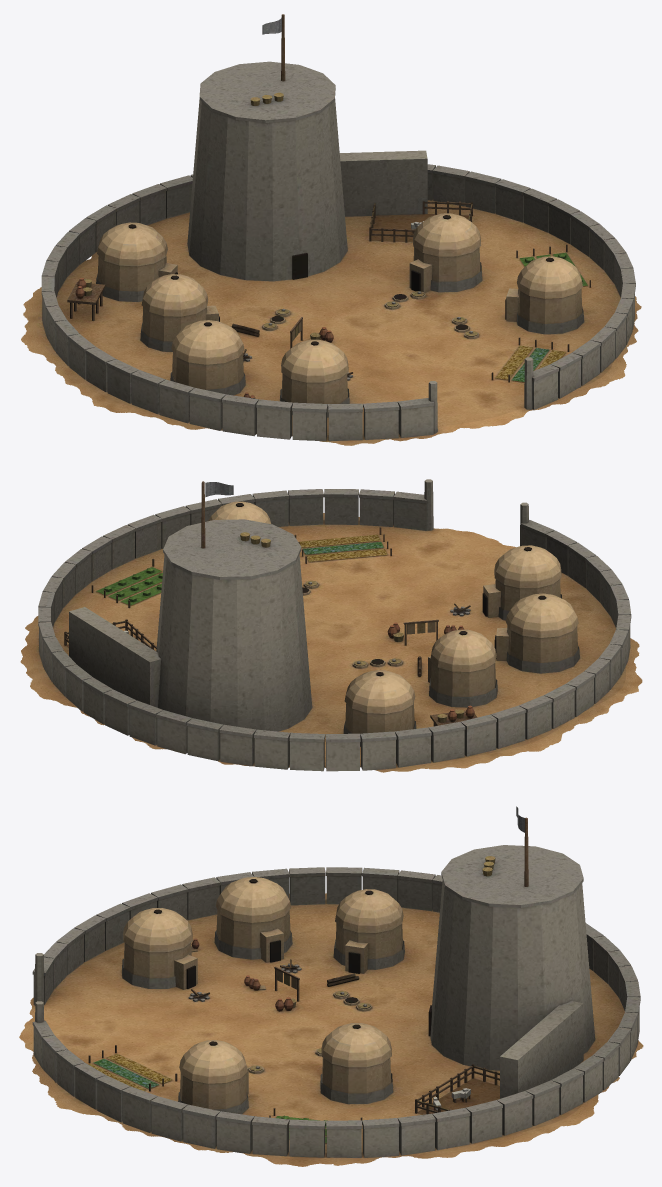
Rendered from stone-town-small-a-levant.glb.
3 views of the same model, one above another, from view 1: azimuth 30°, elevation 25°; view 2: azimuth 150°, elevation 25°; view 3: azimuth 270°, elevation 25° (orthographic). The views are drawn at different scales.
Visible parts, largest first — view 1: LOD0; view 2: LOD0; view 3: LOD0.
Part boxes in pixels (<box>): LOD0: <box>21,14,641,445</box>; LOD0: <box>20,479,642,772</box>; LOD0: <box>19,806,643,1166</box>.
Size of what is drawn, in the model's own units: 4.01 by 1.55 by 3.81.
Materials: 3 (3 with a texture image).
